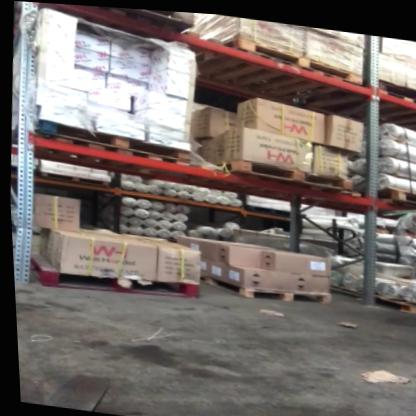vertical_damage: (10, 218, 43, 254)
